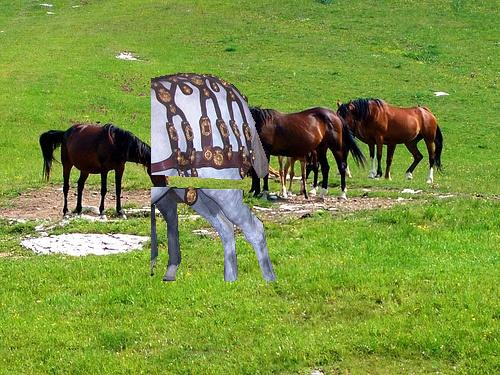tampered: (152, 73, 277, 281)
